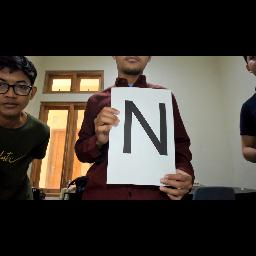n: (116, 96, 178, 166)
